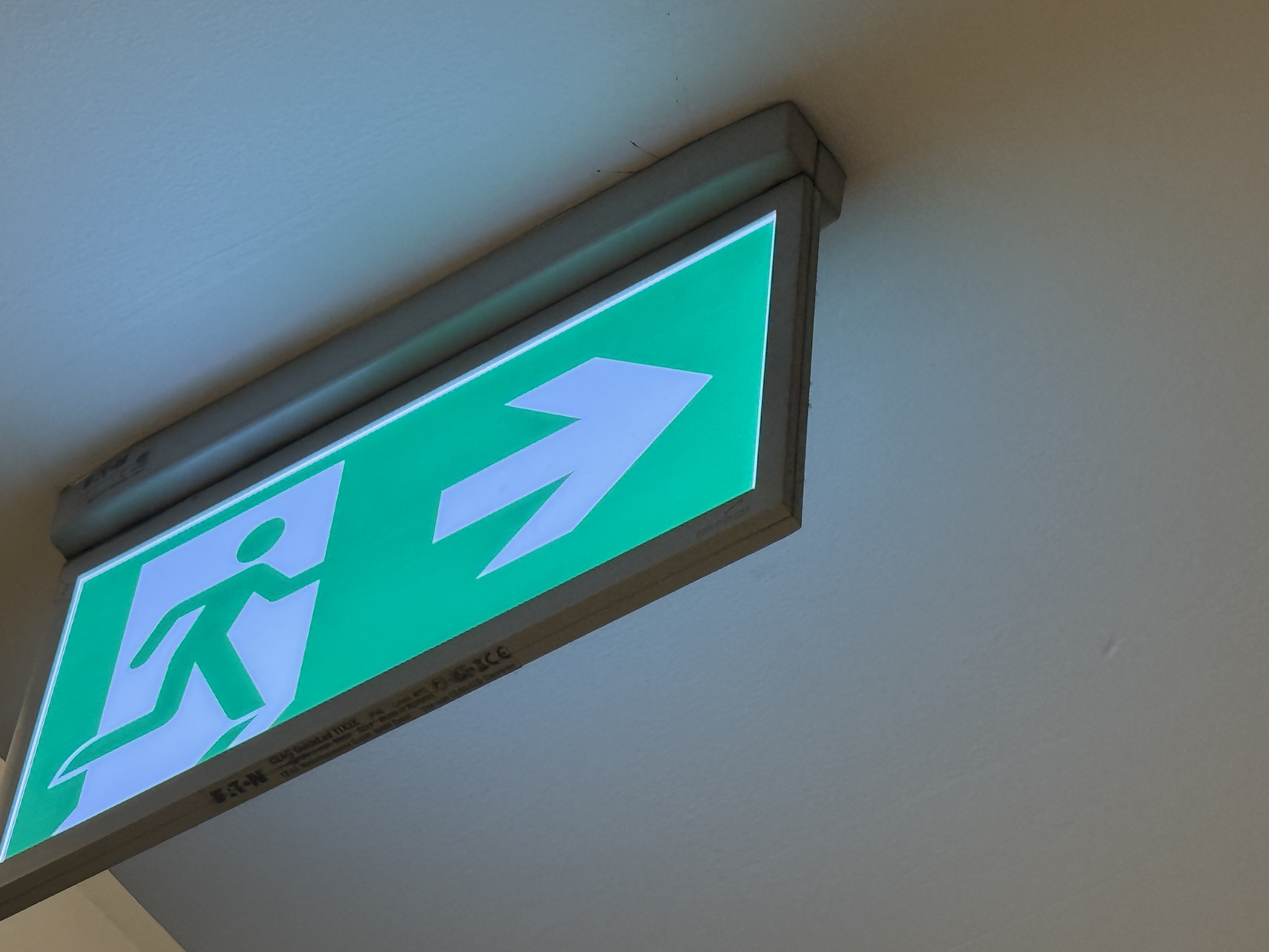emergency_exit: (2, 178, 819, 912)
